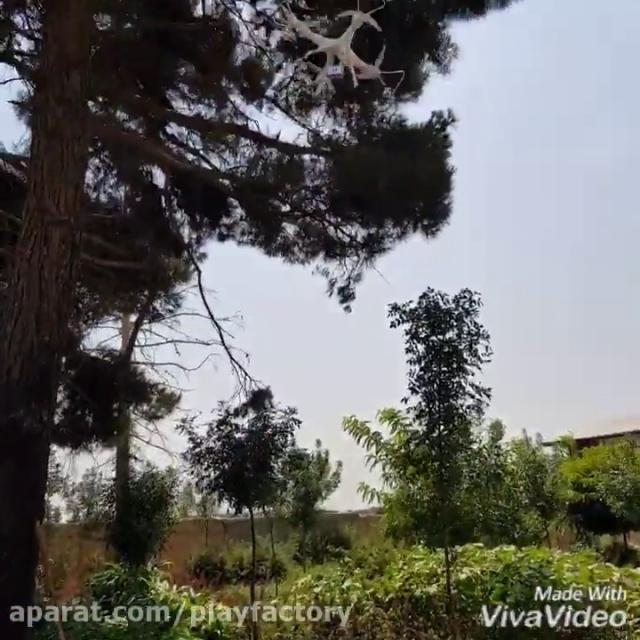drone: (268, 0, 406, 96)
